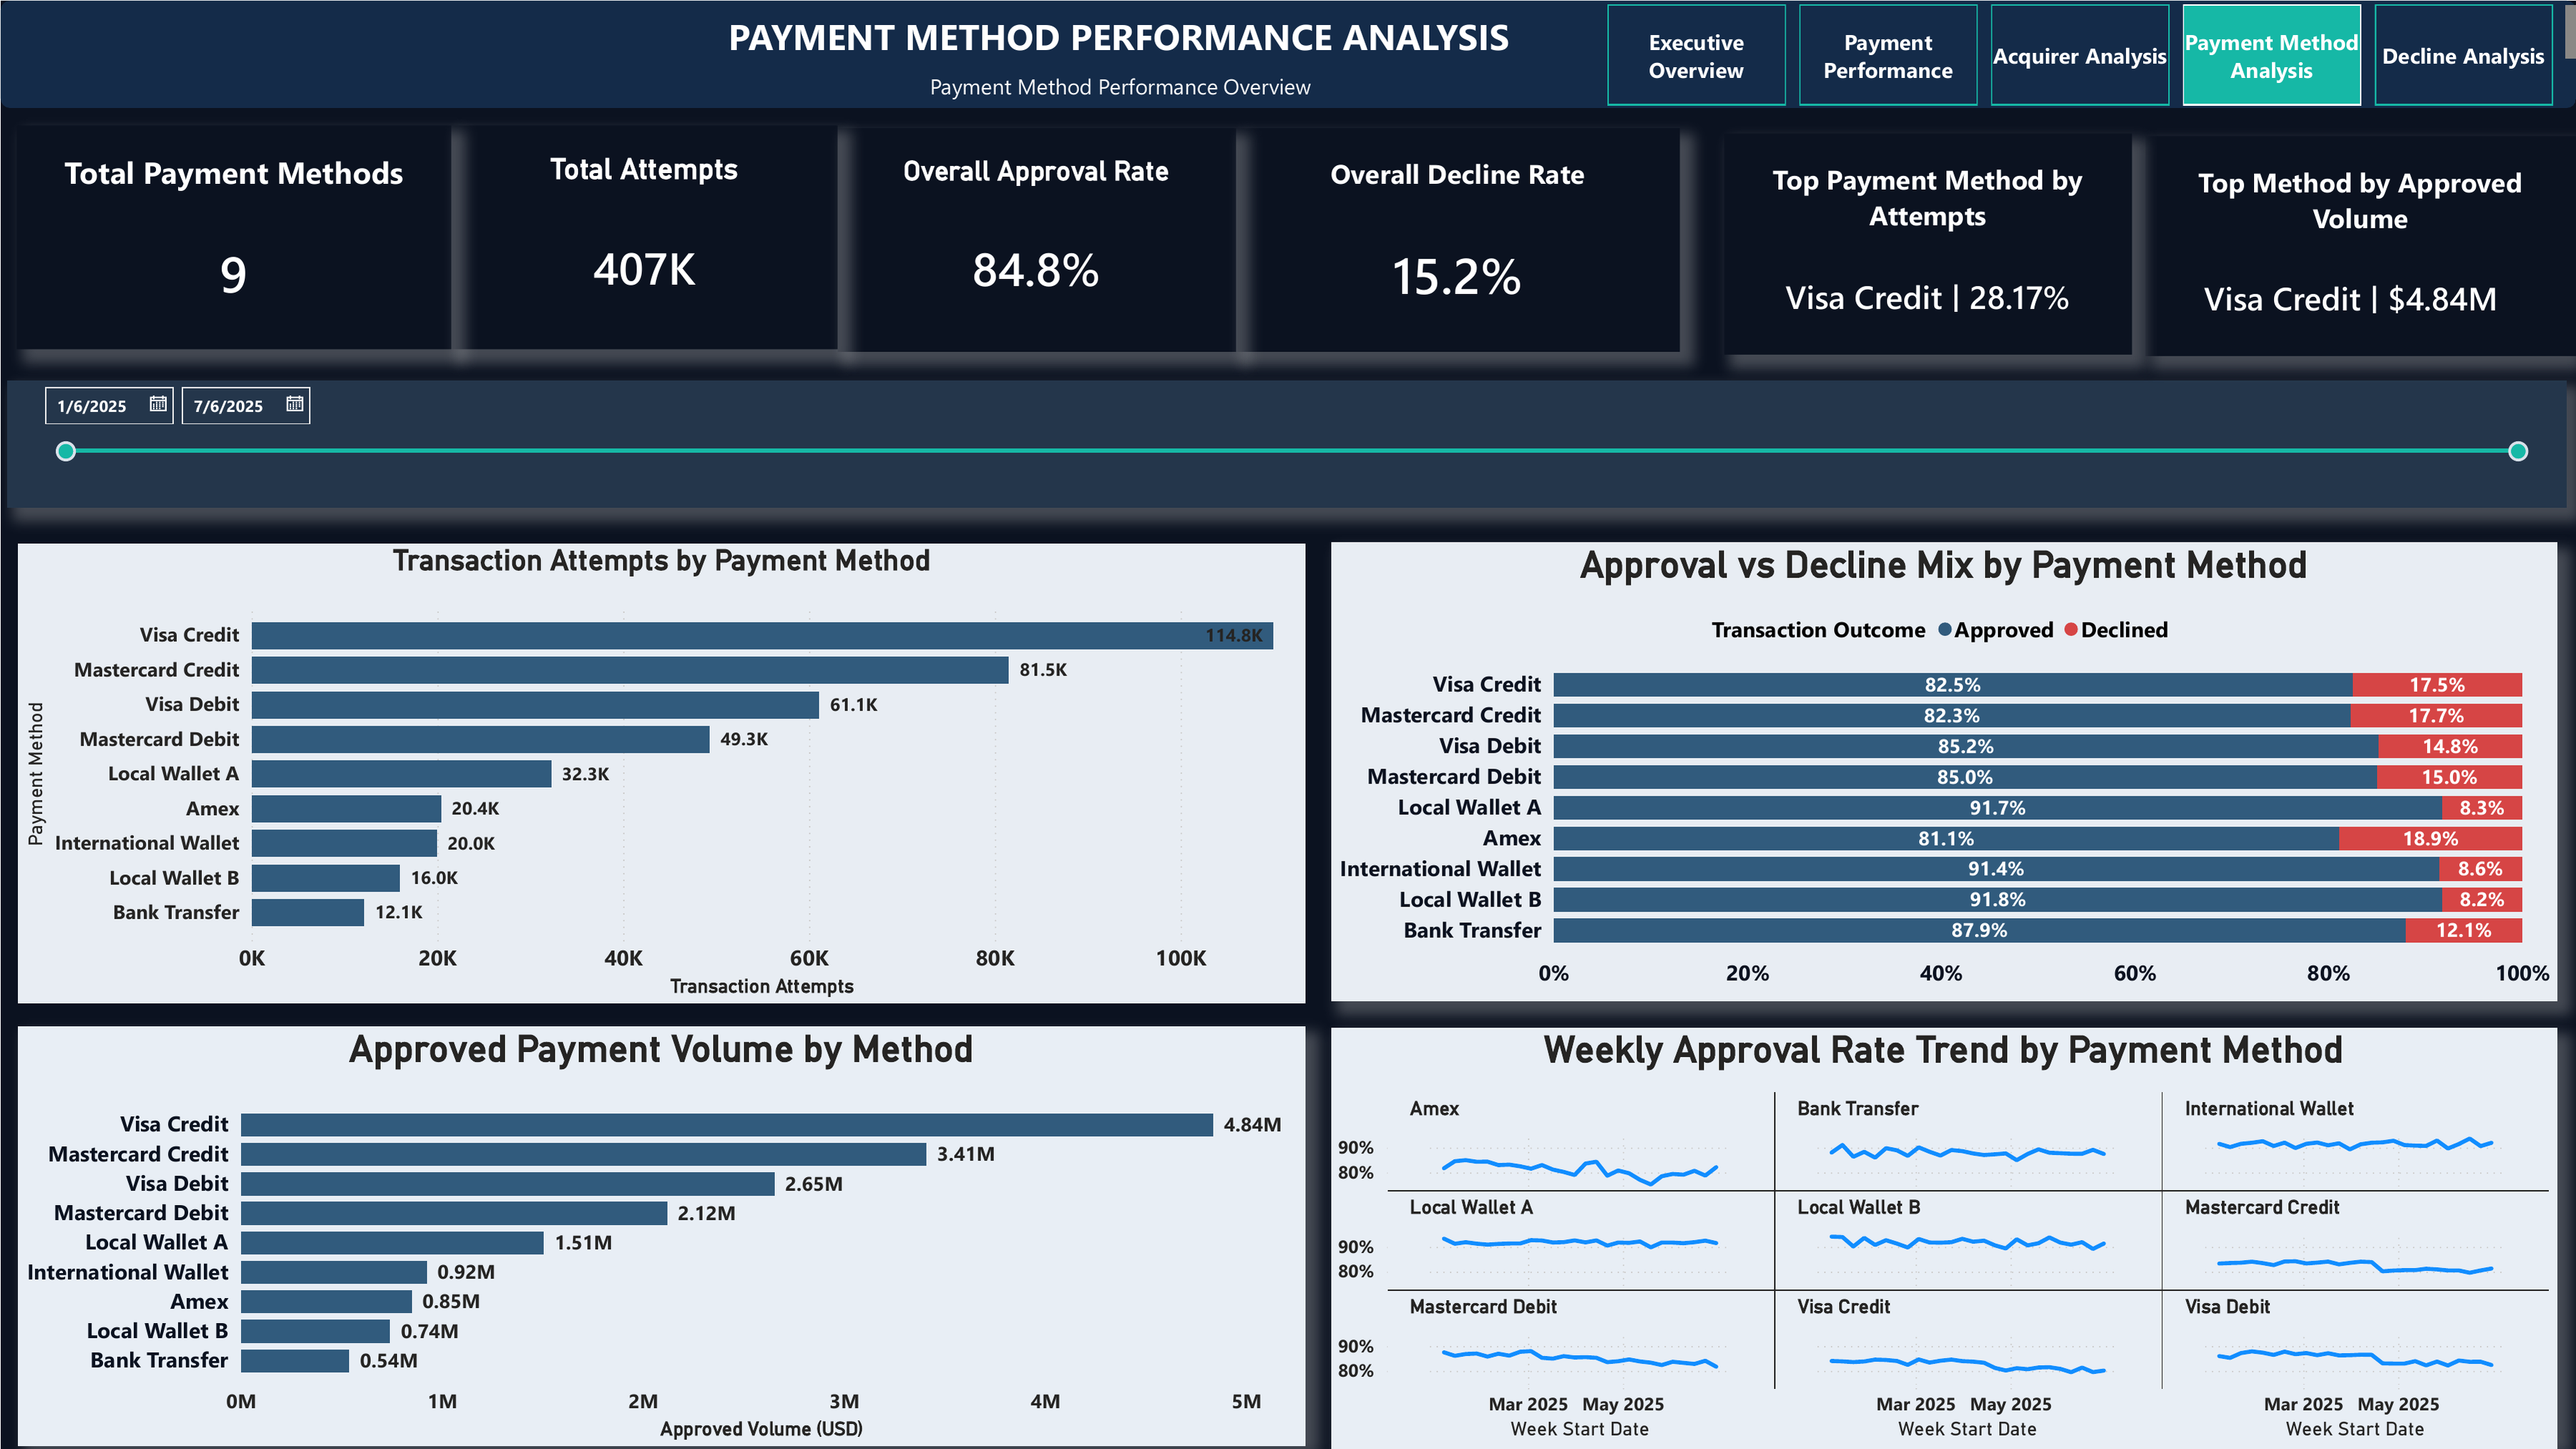

This screenshot's page, from the dashboard's own definition file:
{"tool":"powerbi","page":{"name":"Payment Method Analysis","canvas":[1920,1080],"ordinal":3},"visuals":[{"type":"shape","box":[0,0,1920,80],"z":0},{"type":"textbox","box":[480,2.5,707.5,60],"z":1000},{"type":"textbox","box":[640,47.5,390,35],"z":2000},{"type":"cardVisual","title":"\tTotal Payment Methods","fields":{"Data":["_Measures.Total Payment Methods"]},"box":[11.9,92.9,323.8,166.7],"z":3000},{"type":"cardVisual","title":"Total Attempts","fields":{"Data":["_Measures.transaction count"]},"box":[335.7,92.9,288.1,166.7],"z":4000},{"type":"slicer","title":"Date Range","fields":{"Values":["DimDate.FullDate"]},"box":[5,282.5,1907.5,95],"z":5000},{"type":"cardVisual","title":"Overall Decline Rate","fields":{"Data":["_Measures.Decline Rate - All Attempts"]},"box":[921.4,95.2,331,166.7],"z":6000},{"type":"cardVisual","title":"Top Payment Method by Attempts","fields":{"Data":["_Measures.Top Payment Method by Attempts"]},"box":[1284.6,98.6,304,165.8],"z":7000},{"type":"cardVisual","title":"Overall Approval Rate","fields":{"Data":["_Measures.Approval Rate - All Attempts"]},"box":[623.8,95.2,297.6,166.7],"z":8000},{"type":"hundredPercentStackedBarChart","title":"\tApproval vs Decline Mix by Payment Method","fields":{"Category":["DimPaymentMethod.PaymentMethodName"],"Series":["FactTransactions.TransactionStatus"],"Y":["_Measures.transaction count"]},"box":[992,404,914,342],"z":9000},{"type":"lineChart","title":"Weekly Approval Rate Trend by Payment Method","fields":{"Category":["DimDate.Week Start Date"],"Rows":["DimPaymentMethod.PaymentMethodName"],"Y":["_Measures.Approval Rate - All Attempts"]},"box":[992,766,914,314],"z":10000},{"type":"pageNavigator","box":[1197.5,2.5,722.5,80],"z":11000},{"type":"clusteredBarChart","title":"Transaction Attempts by Payment Method","fields":{"Category":["DimPaymentMethod.PaymentMethodName"],"Y":["_Measures.transaction count"]},"box":[12.5,405,960,343.3],"z":12000},{"type":"clusteredBarChart","title":"\tApproved Payment Volume by Method","fields":{"Category":["DimPaymentMethod.PaymentMethodName"],"Y":["_Measures.Total Approved Payment Volume"]},"box":[12.5,765,960,313.3],"z":13000},{"type":"cardVisual","title":"Top Method by Approved Volume","fields":{"Data":["_Measures.Top Method by Approved Volume"]},"box":[1598.9,100.9,321.4,164.3],"z":14000}]}

Visuals, with their boxes in screenshot pixels (x1, y1, x2, y2), scaled from the page's 1920x1080 canvas onto the 2576x1449 screenshot:
shape: Rect(0, 0, 2575, 107)
textbox: Rect(644, 4, 1594, 84)
textbox: Rect(859, 64, 1382, 111)
"	Total Payment Methods" cardVisual: Rect(16, 125, 450, 348)
"Total Attempts" cardVisual: Rect(450, 125, 837, 348)
"Date Range" slicer: Rect(6, 379, 2566, 507)
"Overall Decline Rate" cardVisual: Rect(1236, 127, 1680, 351)
"Top Payment Method by Attempts" cardVisual: Rect(1724, 132, 2132, 355)
"Overall Approval Rate" cardVisual: Rect(837, 127, 1236, 351)
"	Approval vs Decline Mix by Payment Method" hundredPercentStackedBarChart: Rect(1331, 542, 2557, 1001)
"Weekly Approval Rate Trend by Payment Method" lineChart: Rect(1331, 1028, 2557, 1448)
pageNavigator: Rect(1606, 4, 2575, 111)
"Transaction Attempts by Payment Method" clusteredBarChart: Rect(16, 543, 1304, 1004)
"	Approved Payment Volume by Method" clusteredBarChart: Rect(16, 1026, 1304, 1447)
"Top Method by Approved Volume" cardVisual: Rect(2145, 135, 2575, 356)
